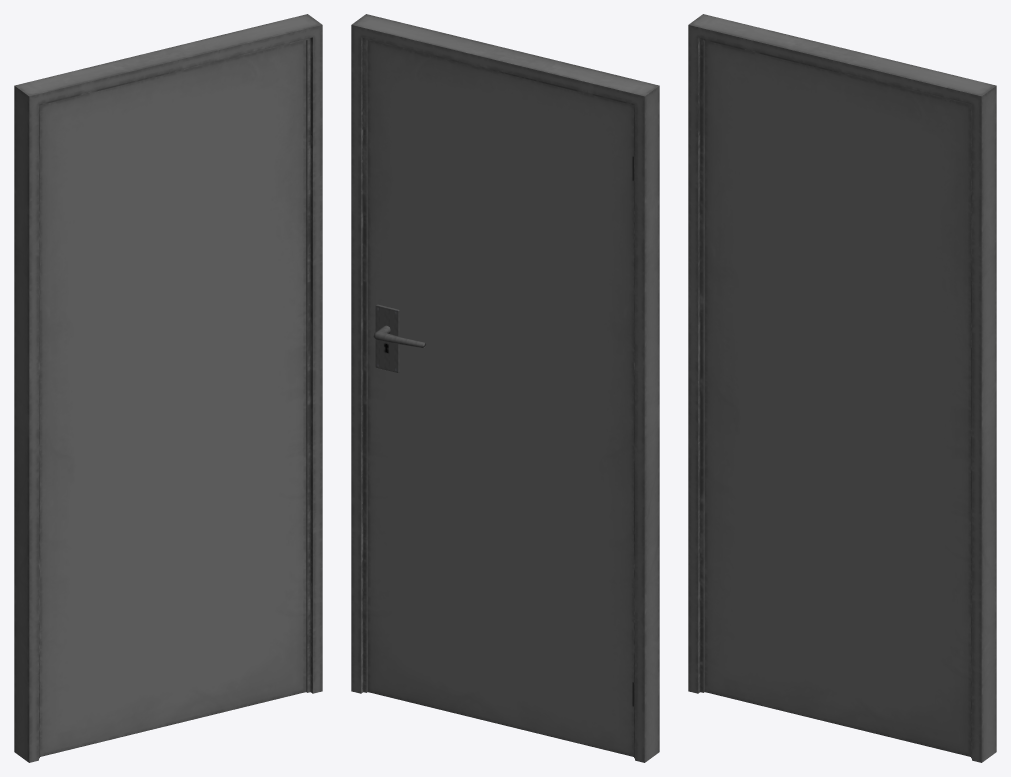
3 renders of one model, left to right at view 1: azimuth 30°, elevation 25°; view 2: azimuth 150°, elevation 25°; view 3: azimuth 330°, elevation 25°, orthographic.
Visible parts, largest first — view 1: Main_Low, Frame_Low; view 2: Main_Low, Frame_Low, HandleBase_Low; view 3: Main_Low, Frame_Low.
Part boxes in pixels (x1,y1,x2,y2): Main_Low: (40, 40, 306, 756); Frame_Low: (14, 14, 322, 762); Main_Low: (367, 40, 633, 756); Frame_Low: (351, 14, 659, 762); HandleBase_Low: (375, 304, 399, 372); Main_Low: (704, 40, 970, 756); Frame_Low: (688, 14, 996, 762).
Bounding box in the file's own units: 98.78 × 214 × 14.03.
Materials: 1 (1 with a texture image).
